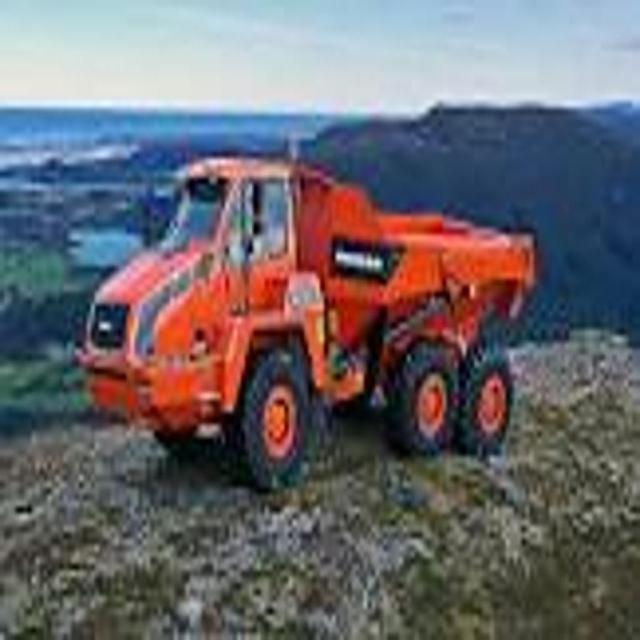dump_truck: (83, 138, 539, 484)
